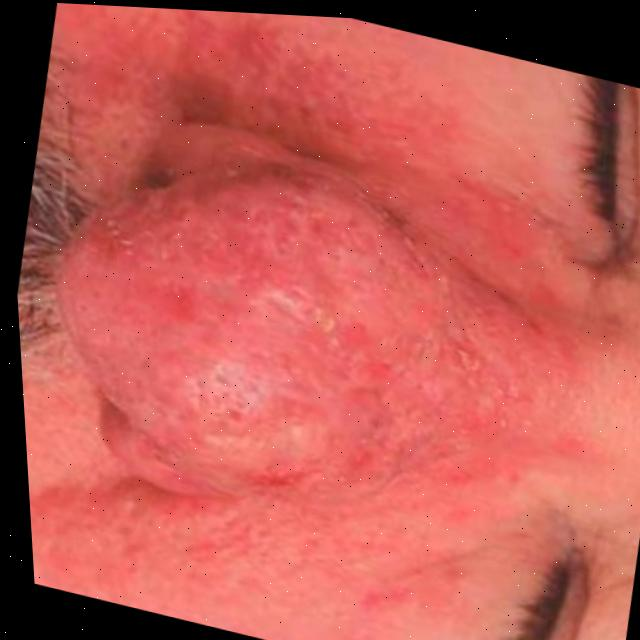Rosacea: (64, 187, 572, 542), (178, 9, 422, 179), (133, 508, 431, 640)
